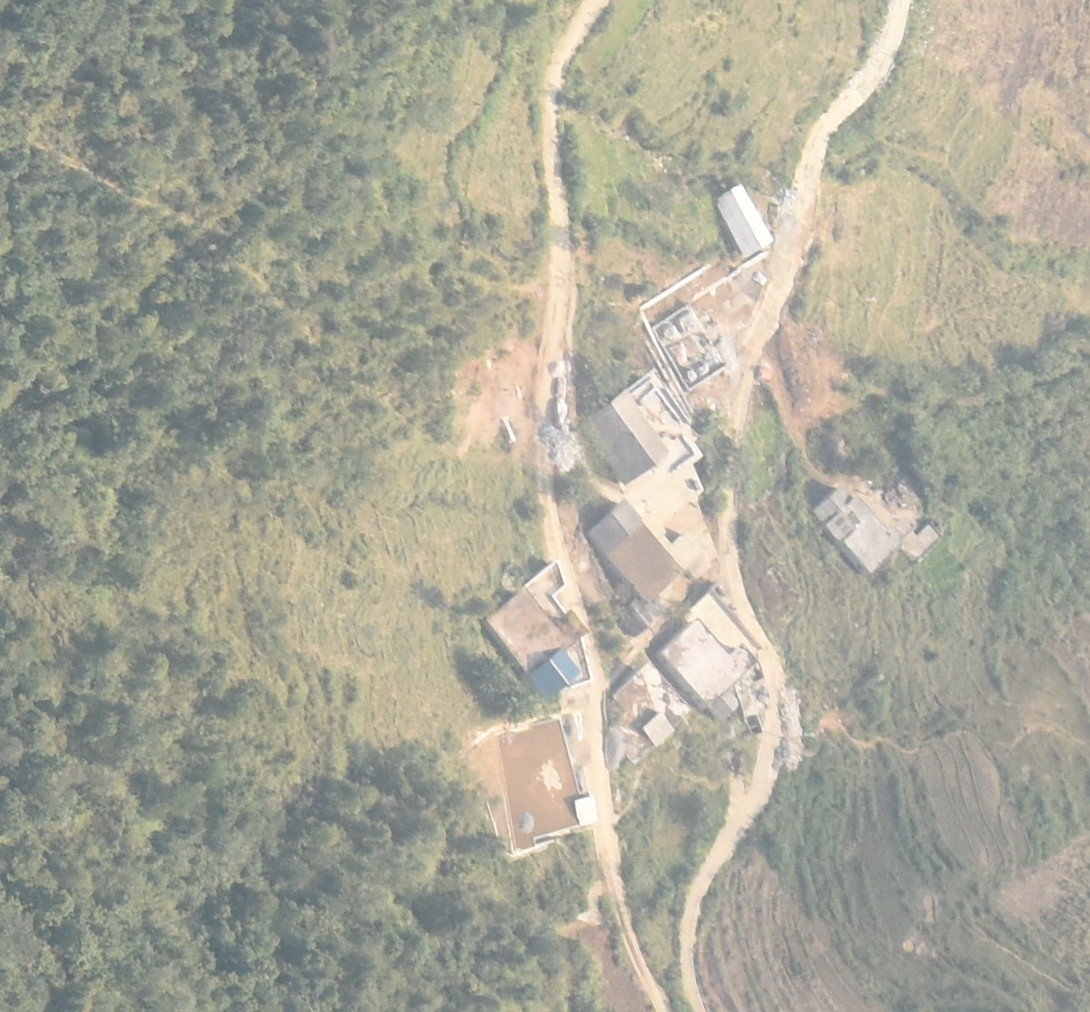building: (483, 558, 592, 696), (497, 719, 600, 853), (587, 498, 684, 600), (653, 619, 757, 712), (582, 388, 667, 485), (812, 487, 905, 575), (651, 304, 727, 391), (713, 183, 775, 258), (642, 714, 676, 748)
